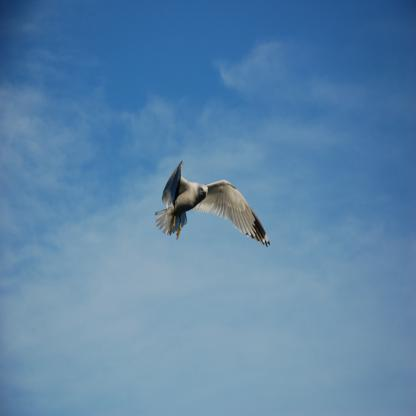bird: (156, 159, 270, 248)
